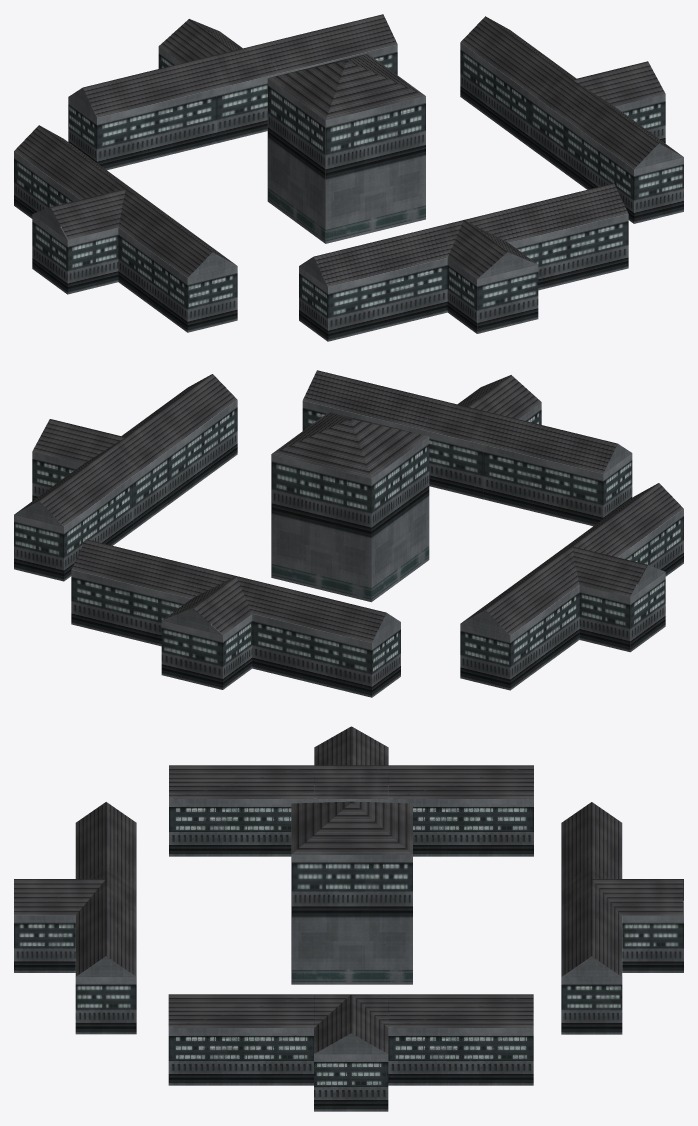
File: Bldg05.fbx
3 views of the same model, one above another, from view 1: azimuth 30°, elevation 25°; view 2: azimuth 150°, elevation 25°; view 3: azimuth 270°, elevation 25° (orthographic). The views are drawn at different scales.
Visible parts, largest first — view 1: Bldg05; view 2: Bldg05; view 3: Bldg05.
Part boxes in pixels (<box>): Bldg05: <box>14,14,683,341</box>; Bldg05: <box>14,370,683,697</box>; Bldg05: <box>14,726,683,1111</box>.
Size of the model in its own units: 549 by 131 by 507.
